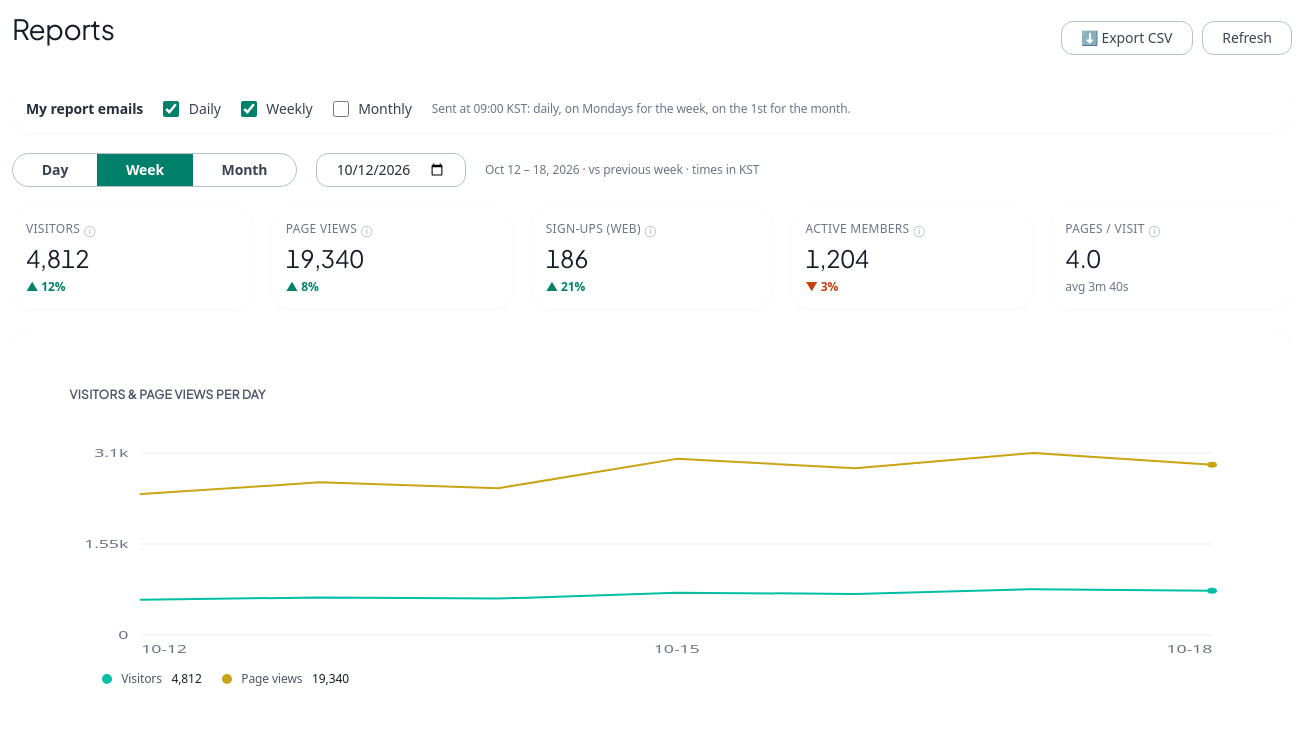
Scenario: a failed toggle save says so and falls back to the server's value
Step 1. Click the checkbox labelled "Daily" → coordinates (171, 109), box [163,101,179,117]
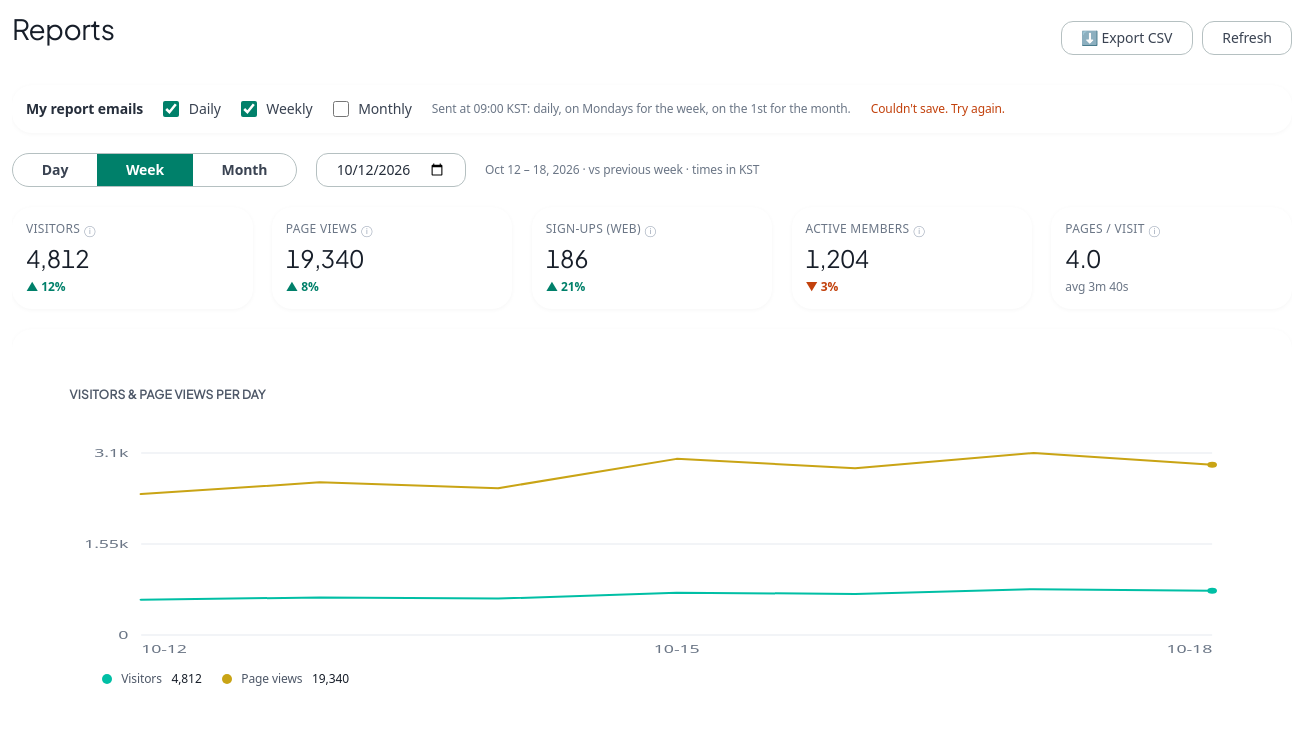
Check: the message shows "Couldn't save", box [871,100,1005,117]
